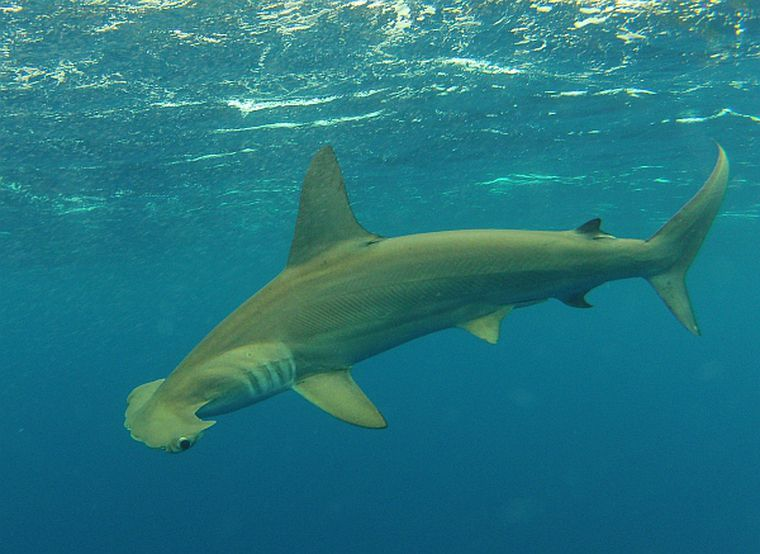Hammer: (81, 126, 746, 471)
